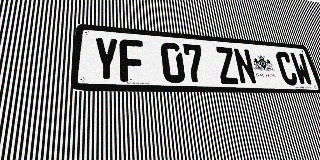0: (160, 42, 186, 83)
7: (181, 44, 207, 84)
C: (274, 51, 299, 86)
F: (119, 39, 145, 82)
N: (232, 48, 258, 85)
W: (289, 52, 314, 86)
Y: (93, 37, 119, 82)
Z: (214, 46, 240, 84)
